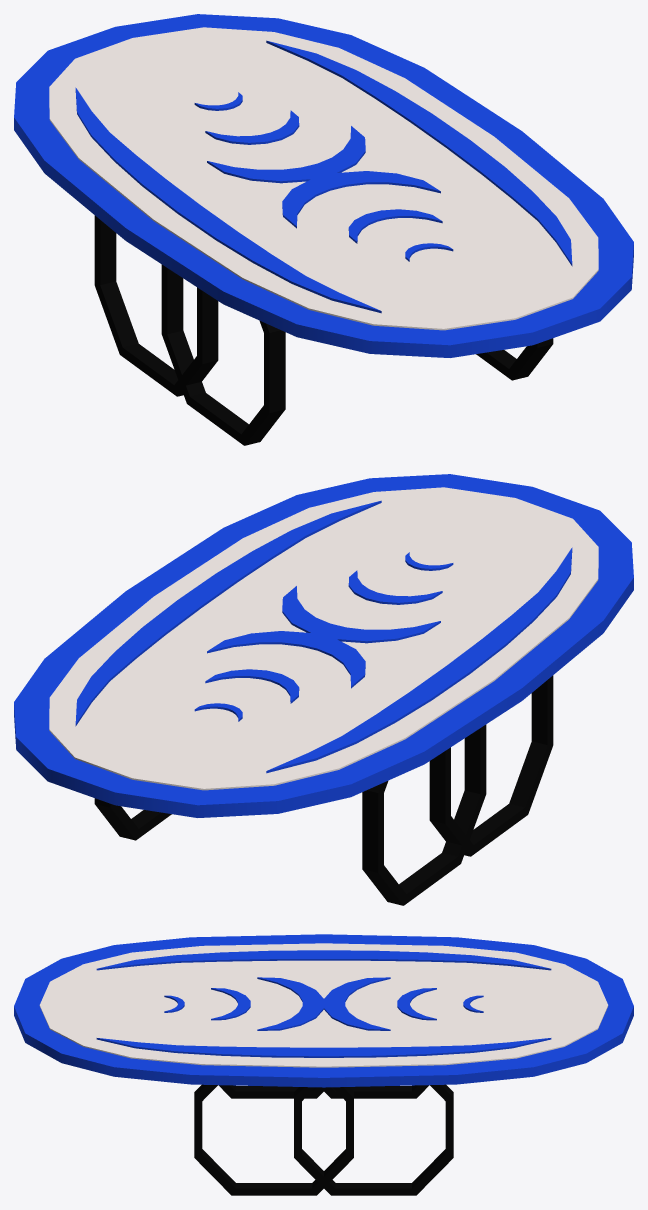
The model's file is ban 4_03.FBX.
The picture shows the model from 3 angles, top to bottom: view 1: azimuth 30°, elevation 25°; view 2: azimuth 150°, elevation 25°; view 3: azimuth 270°, elevation 25°; orthographic projection. The views are drawn at different scales.
Parts seen in each view (by area): view 1: Object1276; view 2: Object1276; view 3: Object1276.
Part boxes in pixels (left/top/right/bottom): Object1276: left=14, top=14, right=633, bottom=445; Object1276: left=14, top=474, right=633, bottom=905; Object1276: left=14, top=934, right=633, bottom=1195.
Size of the model in its own units: 3.05 by 1.4 by 5.56.
